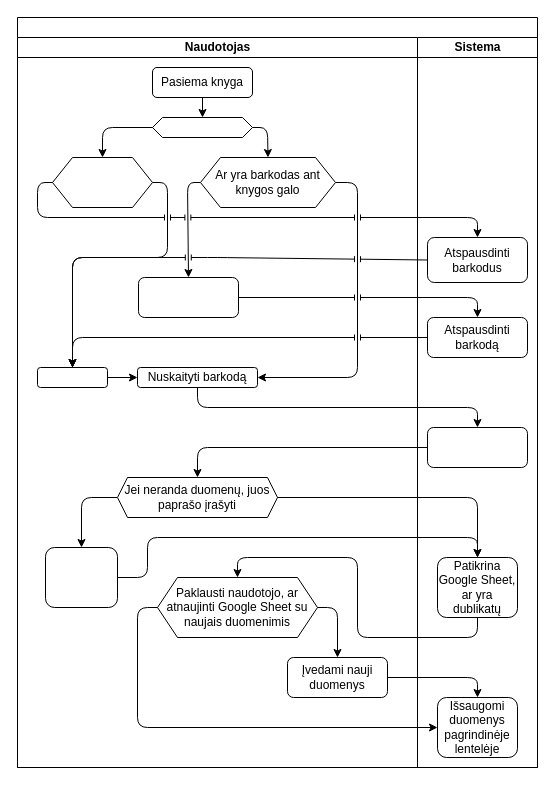
This 555x785 diagram has some shape labels left out. The shapes that lost their labels are listed below. From the top down, each one's centre as x and y in pixels, then its label:
At [202,127]: "Ar yra isnb".
At [102,182]: "Ar yra laisvų atspausdintų barkodų".
At [188,297]: "Nurašyti barkodą".
At [72,377]: "Priklijuoti".
At [477,447]: "Paimti duomenis iš iBiblioteka".
At [81,577]: "Įrašyti naujus duomenis".
